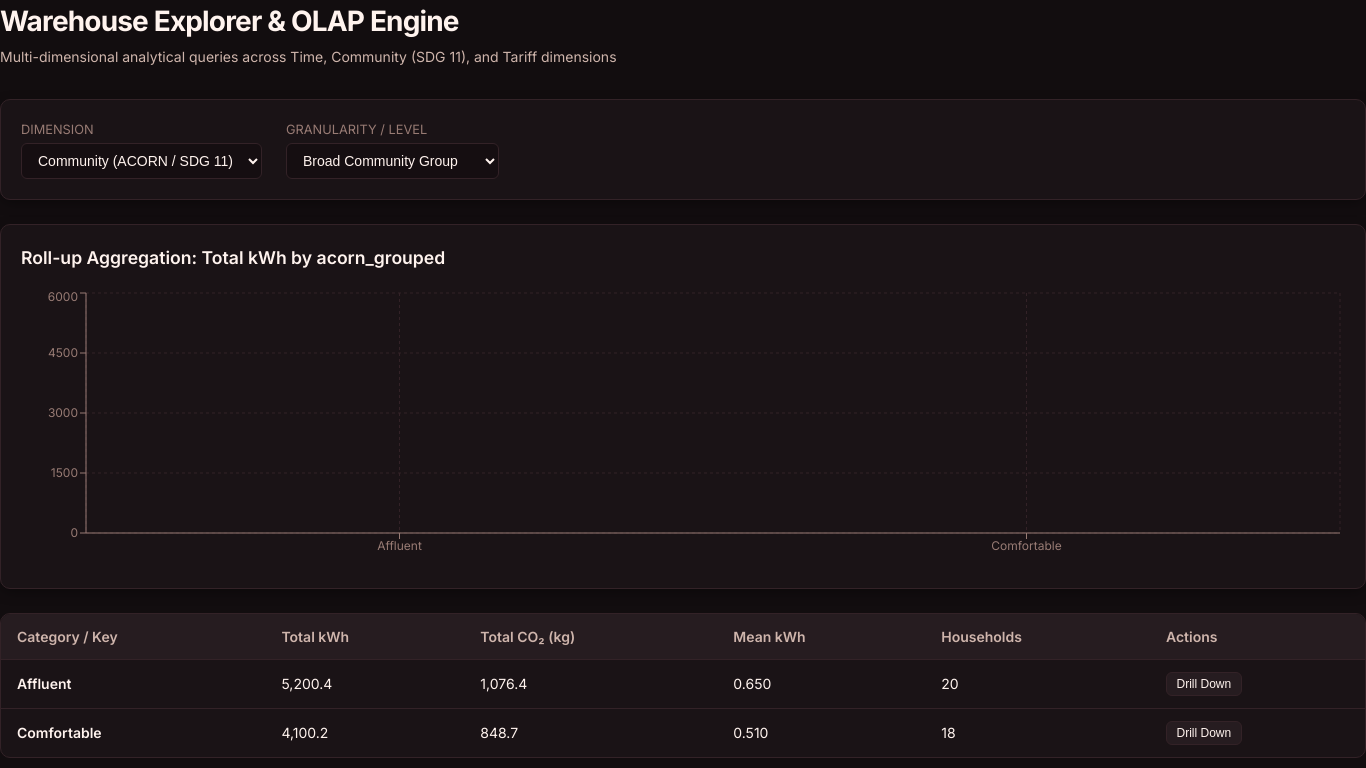
WarehousePage Component › renders OLAP table and supports drill-down
Expected: the heading "Warehouse Explorer & OLAP Engine" is shown, [0,4,459,38]
Expected: the text "Affluent" is shown, [1,659,265,708]
Click the button "Drill Down" in the row of "5,200.4" at (1204, 684), box [1166,672,1242,696]
(page scrolled)
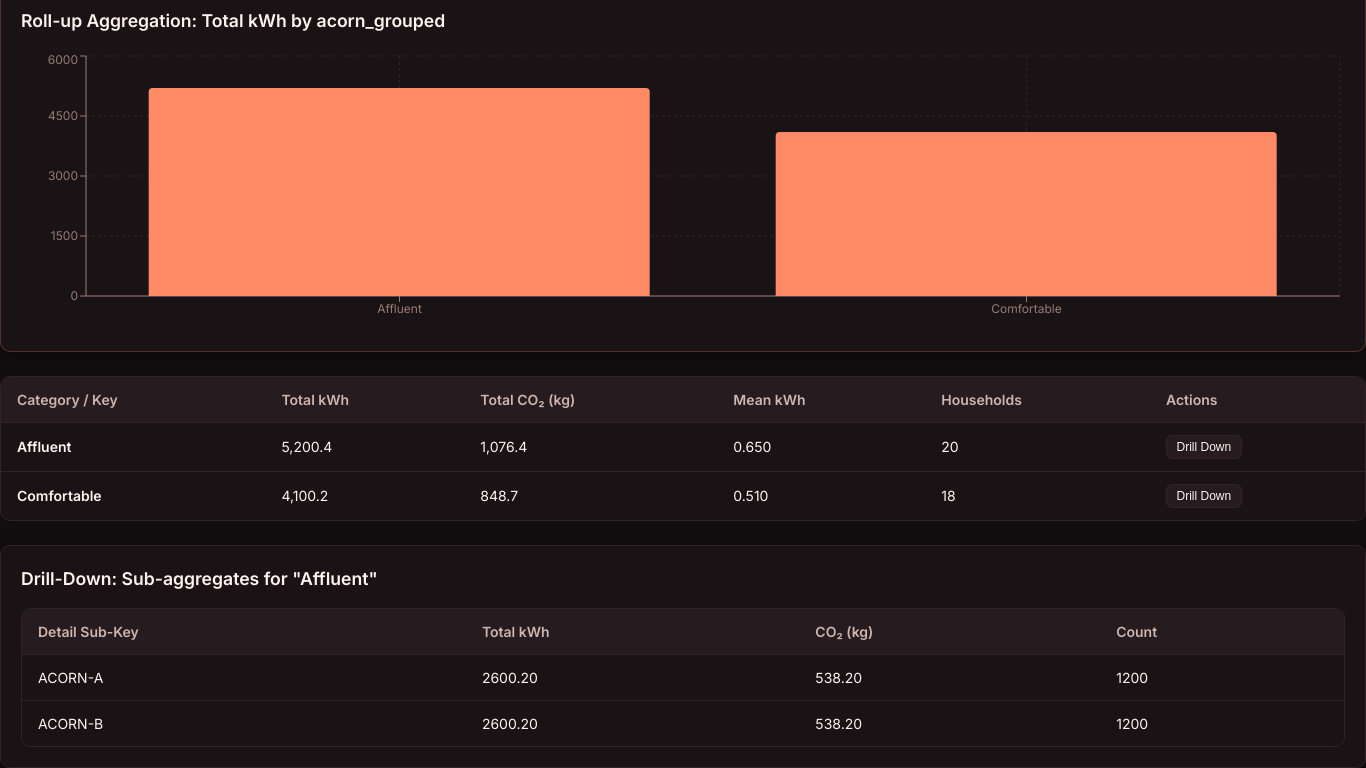
Now the heading "Drill-Down: Sub-aggregates for \"Affluent\"" is shown, box [21,568,378,589]
Now the text "ACORN-A" is shown, box [22,654,466,700]
